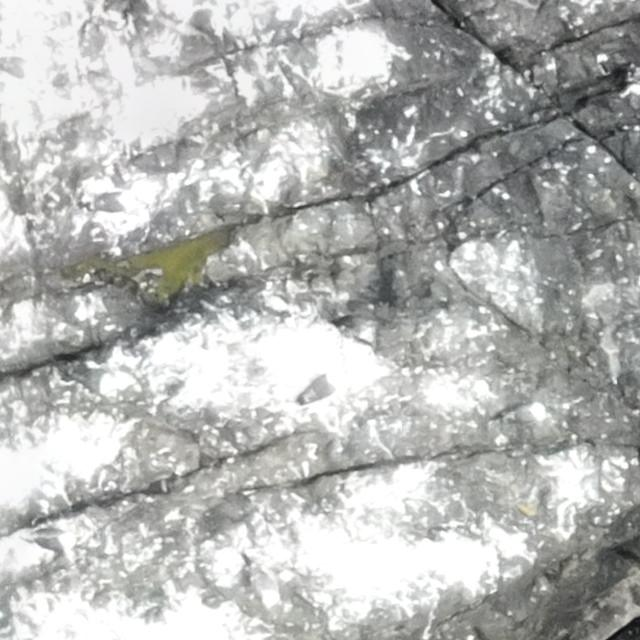umineko: (299, 369, 346, 403), (250, 562, 278, 608), (91, 190, 137, 211), (34, 529, 79, 550), (81, 368, 114, 395), (3, 55, 37, 81), (508, 402, 546, 423)
